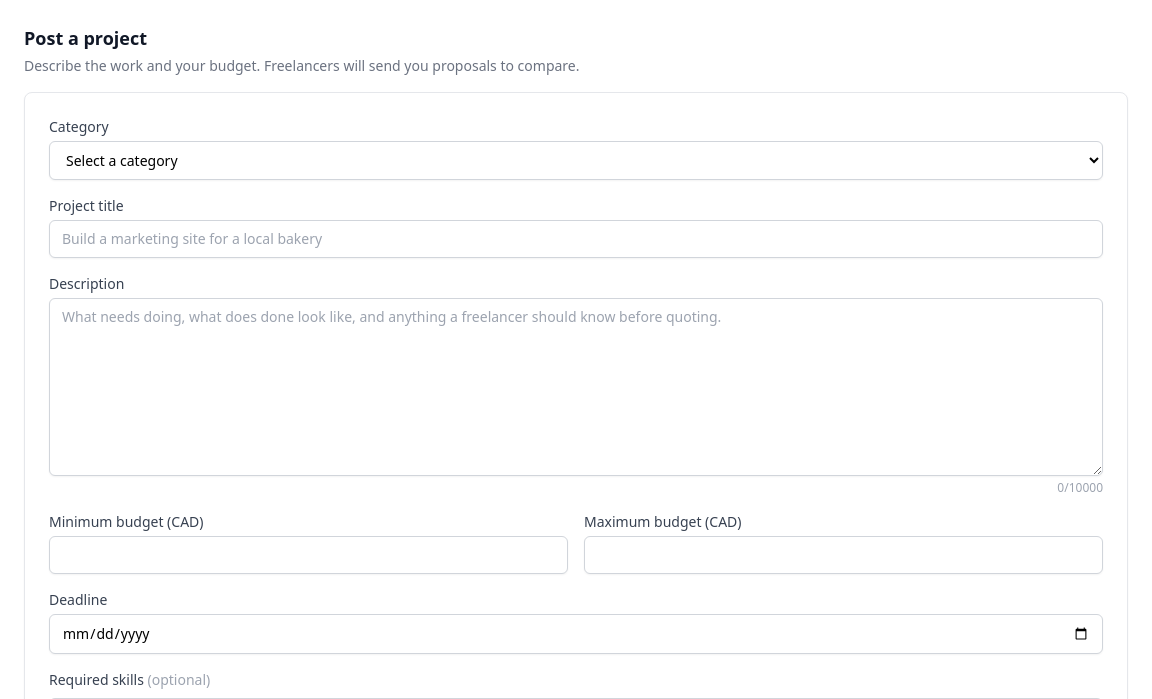
Scenario: PostProjectPage › surfaces server-side field errors against the right inputs
Select "Web development" in the dropdown labelled "Category" at (576, 160), box [49,141,1103,180]
Type "Rebuild the marketing site" into the field labelled "Project title" at (576, 239), box [49,220,1103,258]
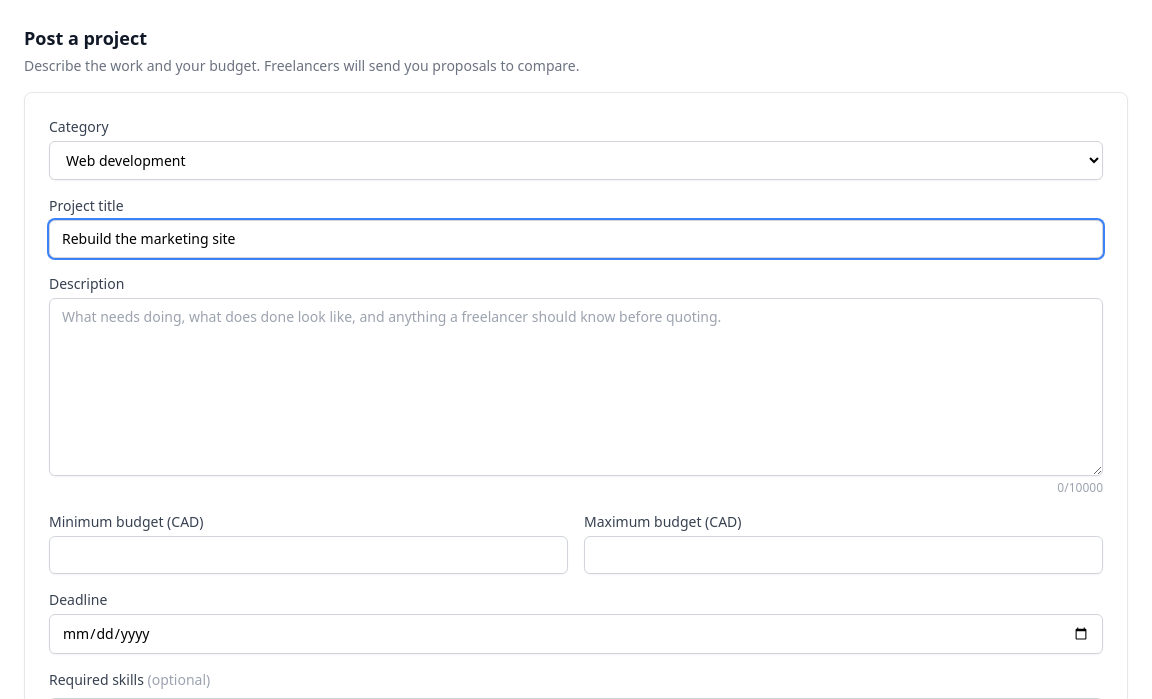
Type "Full scope of the work." into the text box labelled "Description" at (576, 387), box [49,298,1103,476]
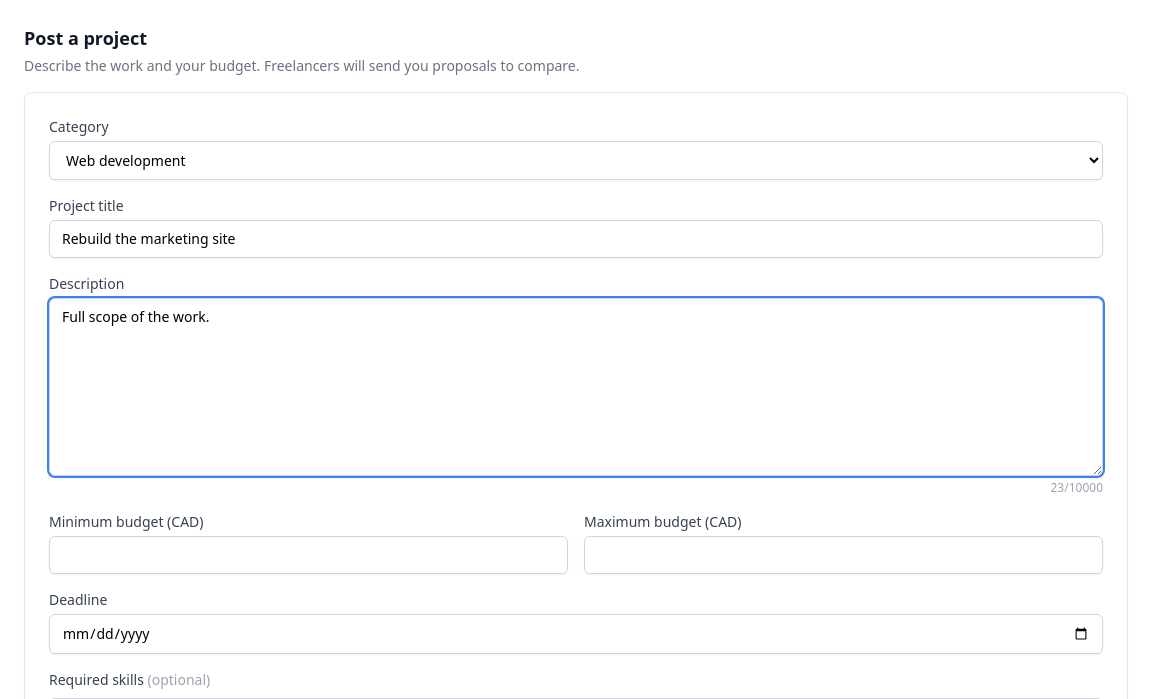
Type "500" into the number field labelled "Minimum budget (CAD)" at (308, 555), box [49,536,568,574]
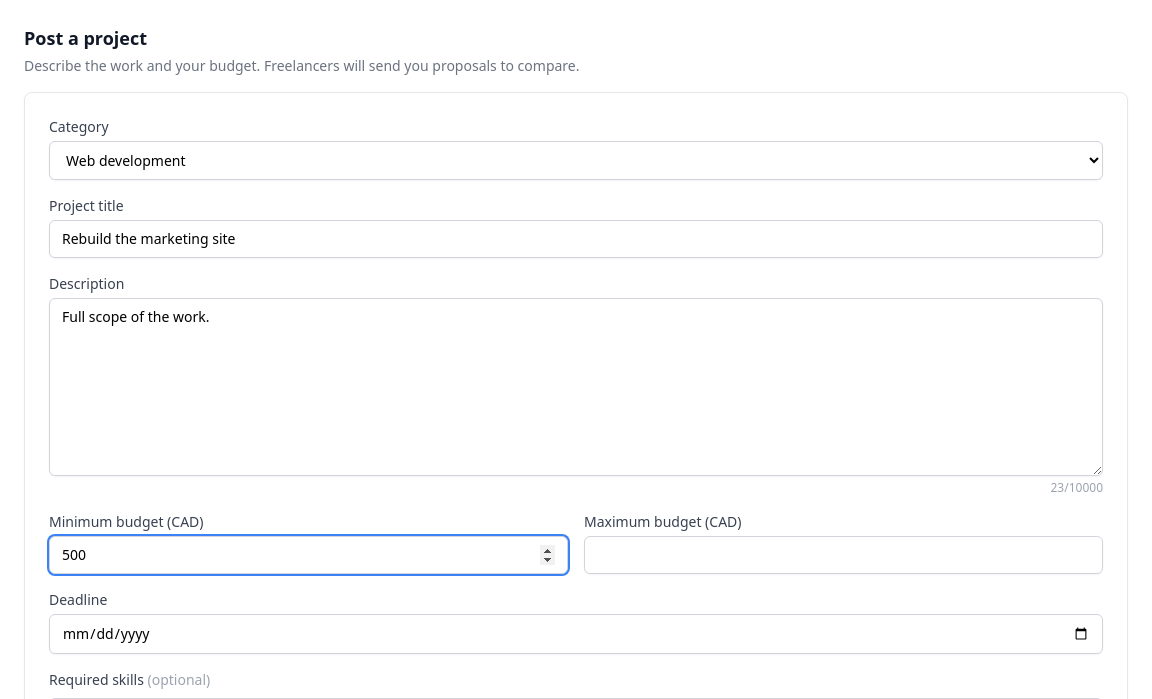
Type "1000" into the number field labelled "Maximum budget (CAD)" at (844, 555), box [584,536,1103,574]
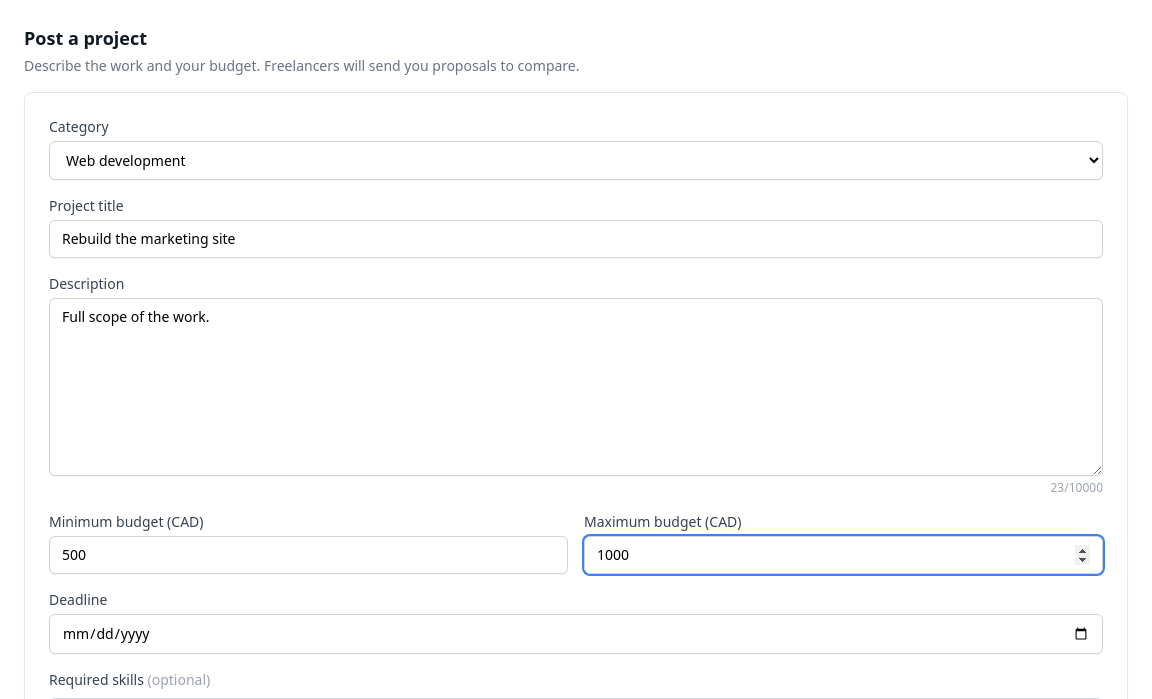
Type "2027-01-01" into the date field labelled "Deadline" at (576, 634), box [49,614,1103,654]
(page scrolled)
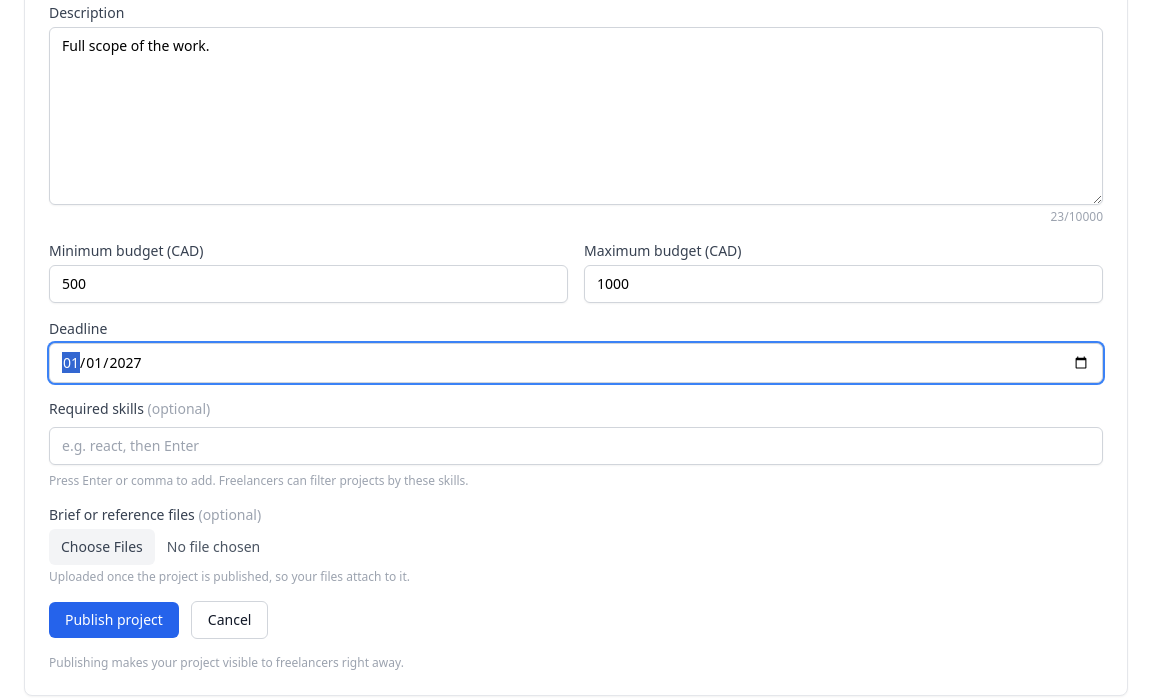
Click the button "Publish project" at (114, 620), box [49,602,179,638]
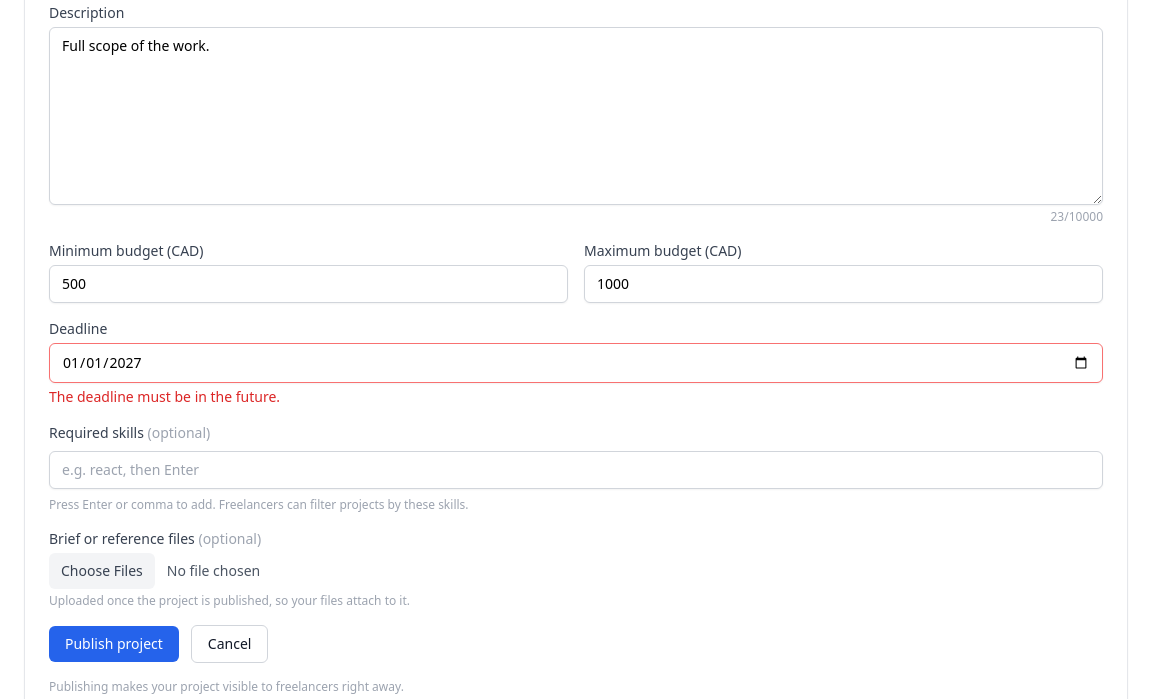
Expected: the text "The deadline must be in the future." is shown, [49,387,280,406]
